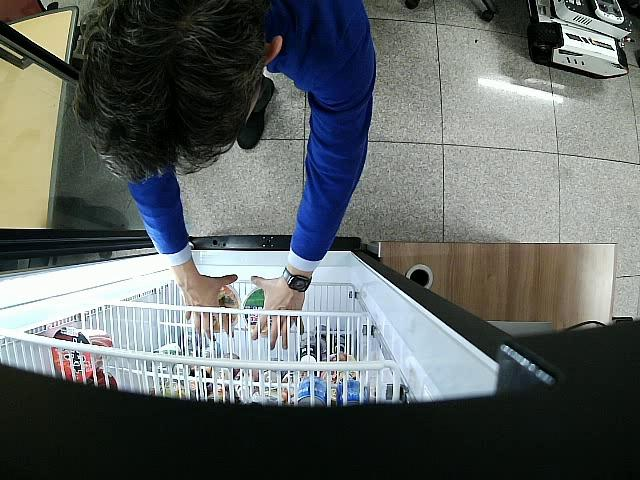00_hand: (184, 267, 237, 341), (251, 276, 303, 350)
09_yukGaeJang: (212, 283, 241, 333), (243, 288, 272, 336)
